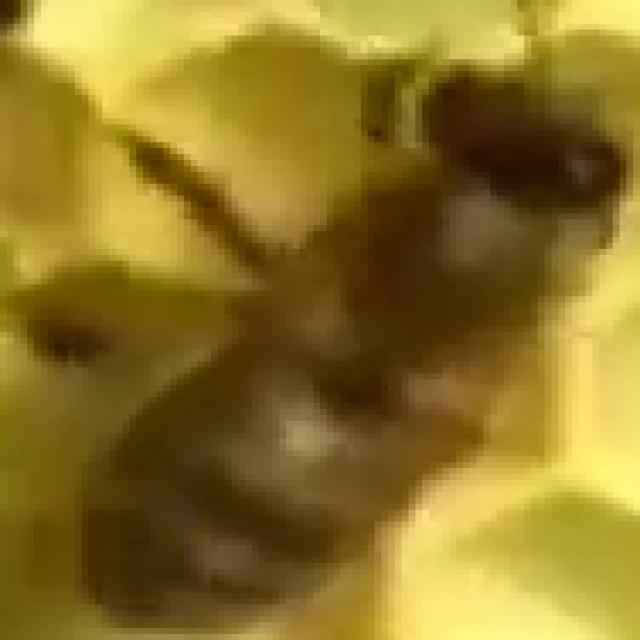honeybee: (70, 56, 617, 596)
